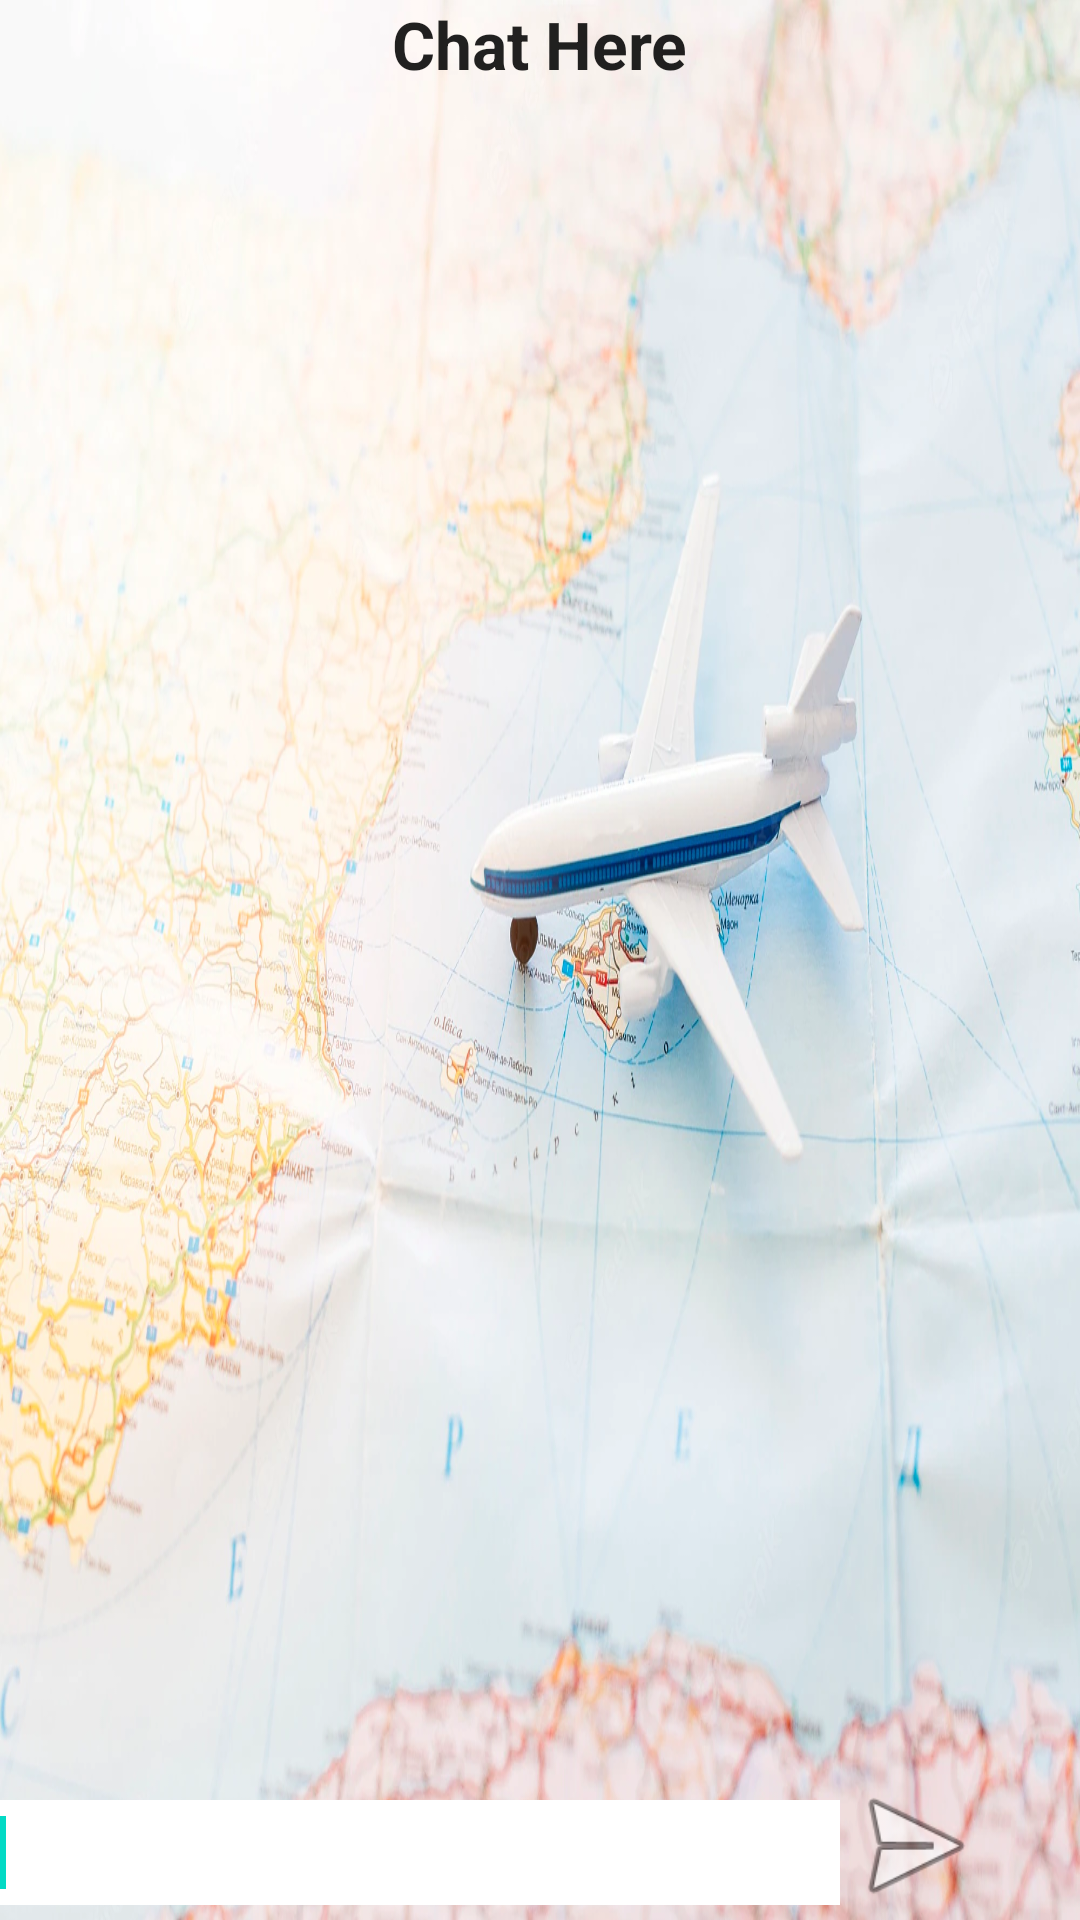

Named icons in this screenshot (1080w x 1920h) and their centers, point (x, y):
send: point (915, 1845)
